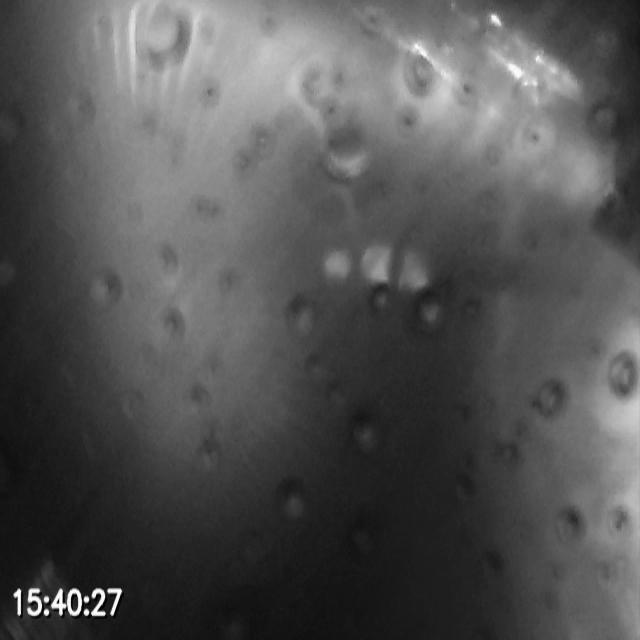white-dots: (319, 241, 429, 291)
